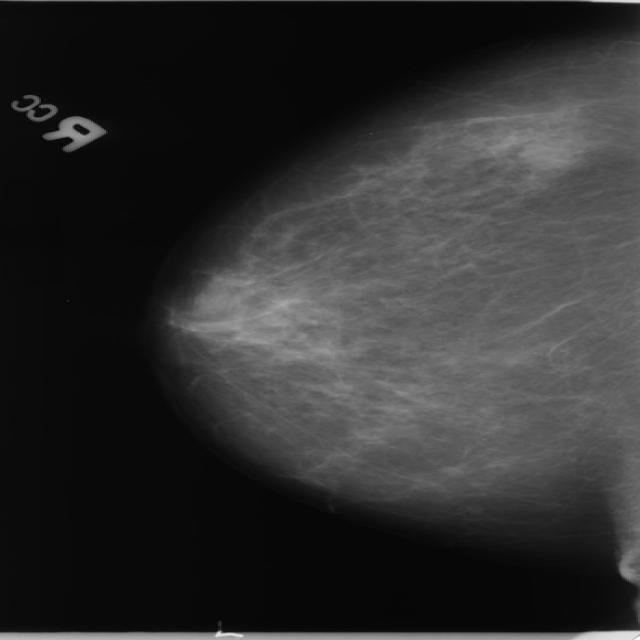tumour: (517, 134, 581, 168)
